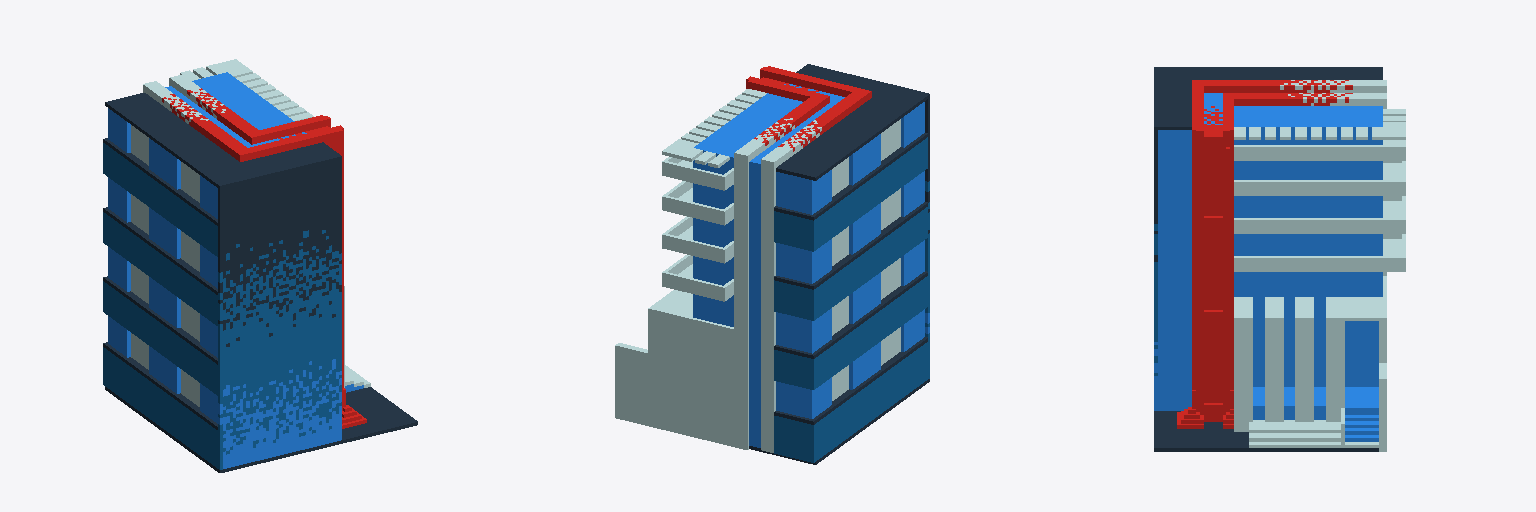
3 views of the same model, side by side, from view 1: azimuth 30°, elevation 25°; view 2: azimuth 150°, elevation 25°; view 3: azimuth 270°, elevation 25° (orthographic).
Bounding box in the file's own units: 60 × 85 × 66.
Materials: 1 (1 with a texture image).